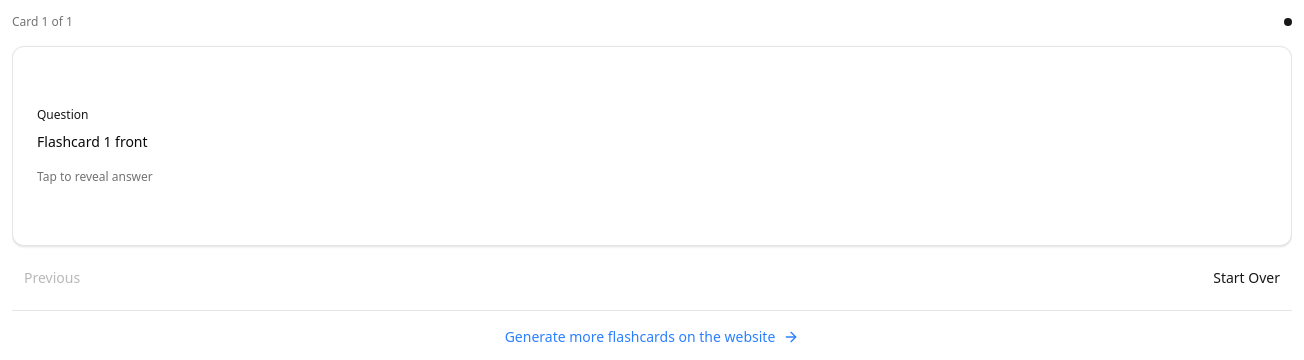
Test: FlashcardView › flip interaction › shows "Answer" label when flipped
Click the button with aria-label "show answer" at (652, 234), box [12,46,1292,246]
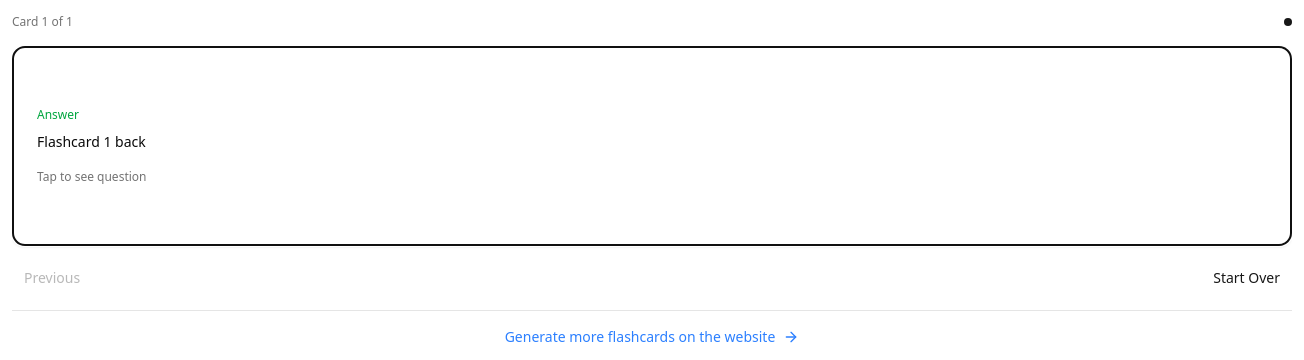
Expected: the text "Answer" is shown, [37,106,79,123]
